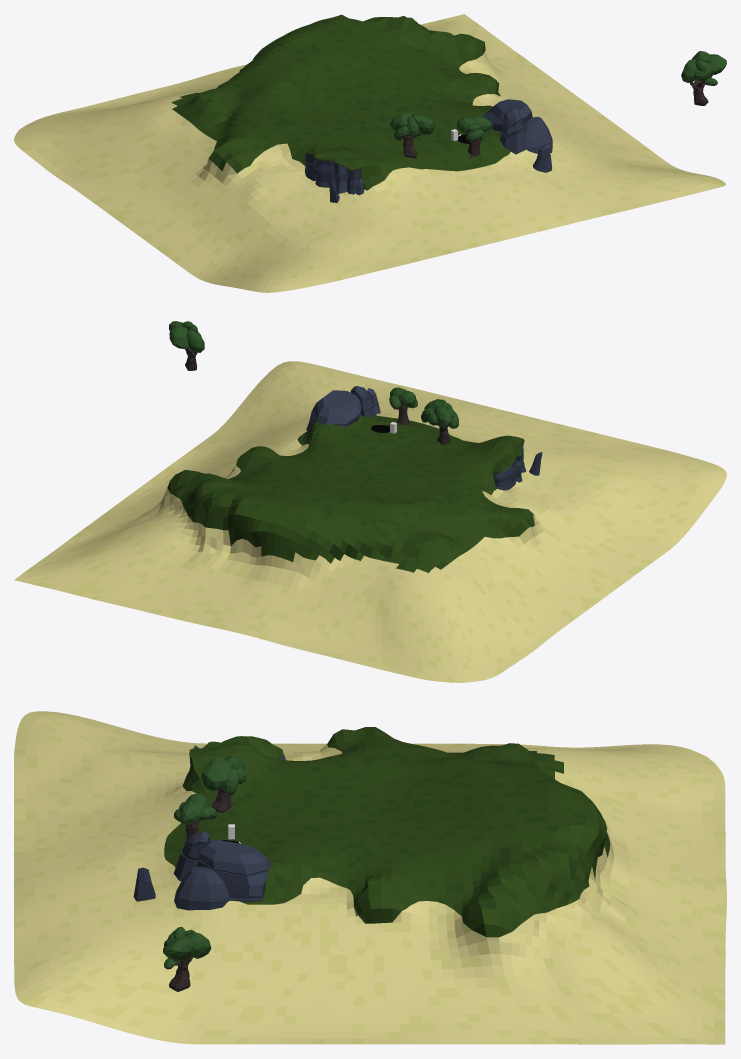
File: MAPA.glb
The picture shows the model from 3 angles, top to bottom: view 1: azimuth 30°, elevation 25°; view 2: azimuth 150°, elevation 25°; view 3: azimuth 270°, elevation 25°; orthographic projection. The views are drawn at different scales.
Visible parts, largest first — view 1: Plane.001, Plane, Icosphere.003, Cube.006, Icosphere.001, Cube.001, Cube.008, Cube, Cube.002, Cube.003; view 2: Plane.001, Plane, Cube, Icosphere.003, Cube.006, Icosphere.001, Cube.008; view 3: Plane.001, Plane, Cube, Cube.002, Icosphere.003, Icosphere.001, Cube.008, Cube.001, Cube.006, Cube.005.
Part boxes in pixels (<box>): Plane.001: <box>14,14,725,292</box>; Plane: <box>171,14,510,191</box>; Icosphere.003: <box>681,51,726,105</box>; Cube.006: <box>304,152,347,193</box>; Icosphere.001: <box>390,112,434,158</box>; Cube.001: <box>500,107,525,154</box>; Cube.008: <box>456,116,492,158</box>; Cube: <box>483,99,532,131</box>; Cube.002: <box>524,116,552,153</box>; Cube.003: <box>346,160,367,194</box>; Plane.001: <box>14,361,726,682</box>; Plane: <box>167,414,534,572</box>; Cube: <box>306,390,361,432</box>; Icosphere.003: <box>169,321,204,370</box>; Cube.006: <box>493,442,526,490</box>; Icosphere.001: <box>421,399,458,444</box>; Cube.008: <box>389,387,417,425</box>; Plane.001: <box>14,711,726,1044</box>; Plane: <box>164,727,610,937</box>; Cube: <box>196,839,271,901</box>; Cube.002: <box>174,866,229,910</box>; Icosphere.003: <box>163,927,211,991</box>; Icosphere.001: <box>201,755,246,813</box>; Cube.008: <box>174,793,217,844</box>; Cube.001: <box>173,831,209,881</box>; Cube.006: <box>202,736,285,760</box>; Cube.005: <box>133,867,155,901</box>.
Bounding box in the file's own units: 117 × 23.34 × 106.
